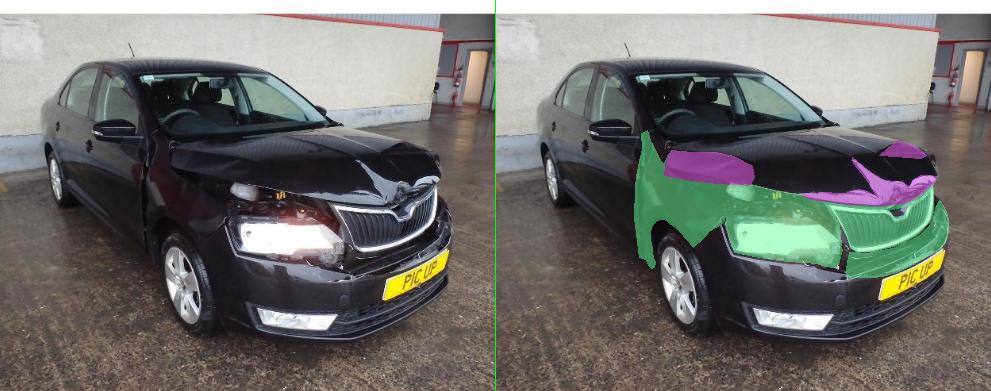Broken part: (328, 154, 883, 245), (276, 130, 460, 268), (701, 200, 905, 277), (659, 185, 875, 252), (458, 214, 693, 267)
Dent: (611, 157, 881, 205), (336, 150, 517, 184), (767, 141, 861, 158)
